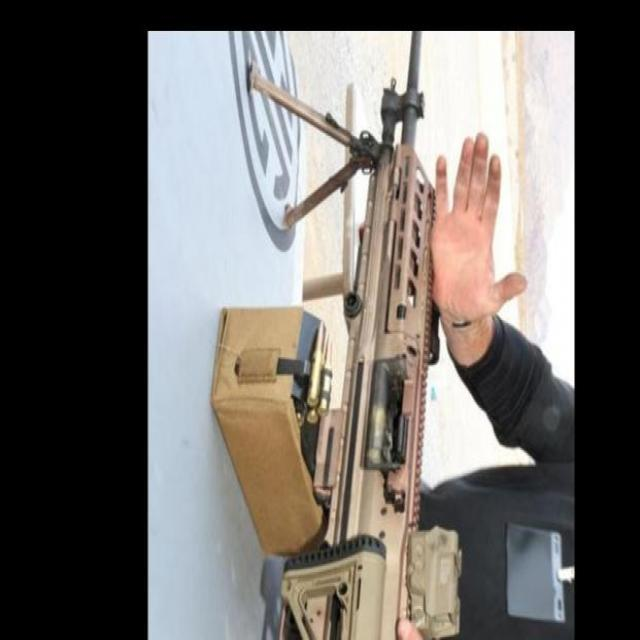weapon: (244, 32, 463, 640)
